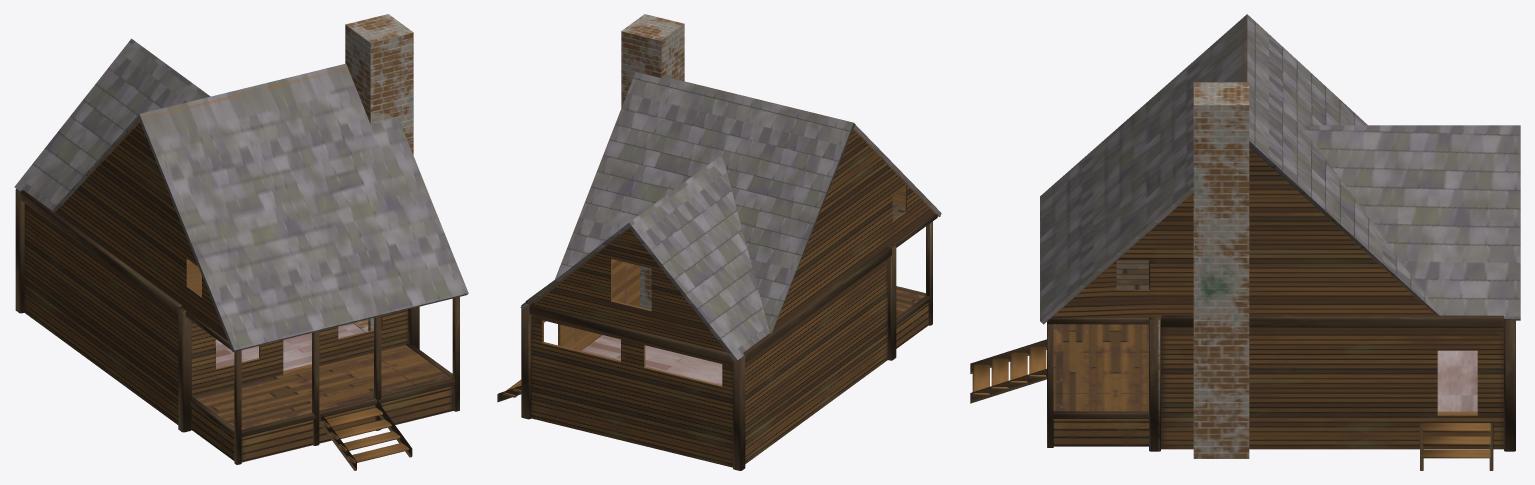
File: Cabin 1 (Low Poly).fbx
3 renders of one model, left to right at view 1: azimuth 30°, elevation 25°; view 2: azimuth 150°, elevation 25°; view 3: azimuth 270°, elevation 25°, orthographic. The views are drawn at different scales.
Visible parts, largest first — view 1: LowPolyFullTex; view 2: LowPolyFullTex; view 3: LowPolyFullTex.
Part boxes in pixels (box(x1,y1,x2,y2)): LowPolyFullTex: box(14, 14, 468, 470); LowPolyFullTex: box(497, 14, 941, 470); LowPolyFullTex: box(970, 14, 1520, 470).
Size of the model in its own units: 1243 by 1408 by 1983.
